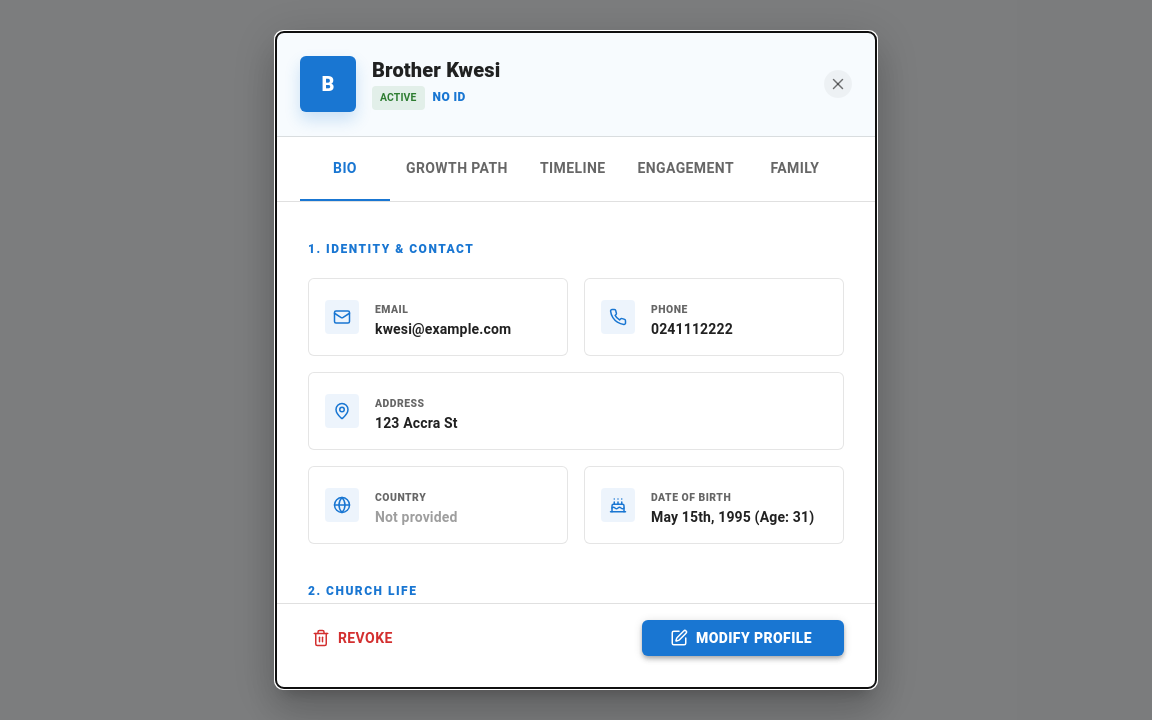
Scenario: MemberDetailsDialog Multi-Tab Profile View › renders Timeline Tab with Firestore Timestamp format date safely
Click the tab "Timeline".
click(573, 169)  # box [524,137,621,201]
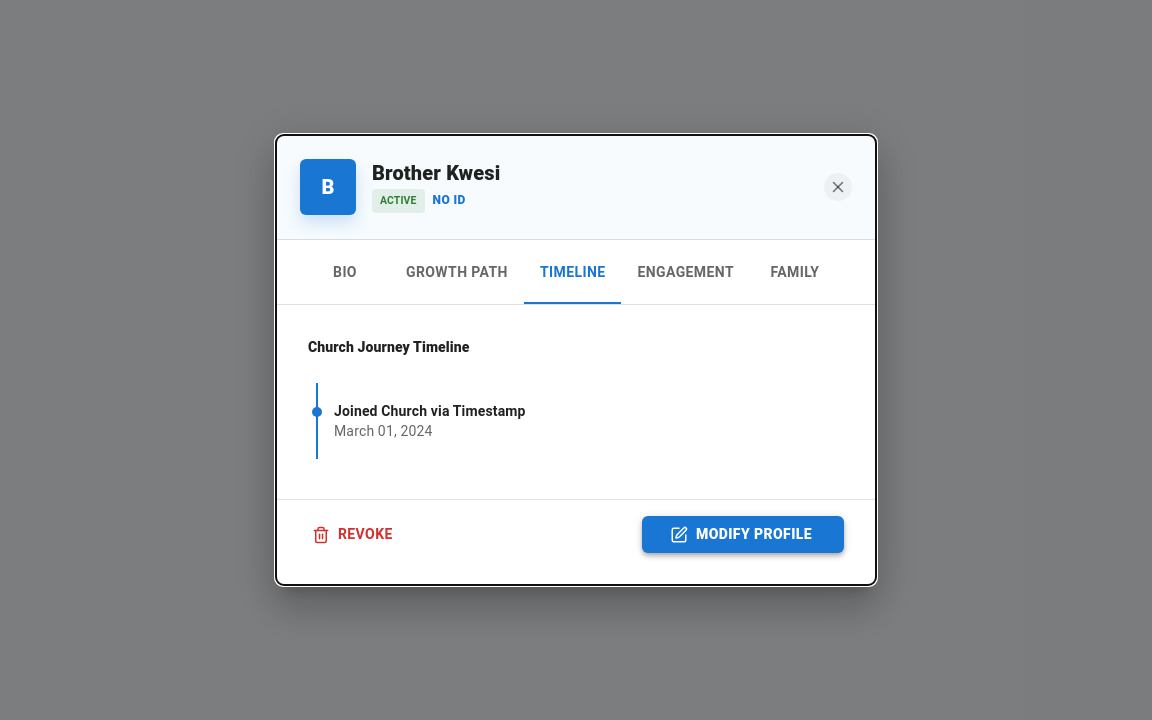
Expected: the text "Joined Church via Timestamp" is shown, [334,403,526,419]
Expected: the text "March 01, 2024" is shown, [334,423,432,439]
